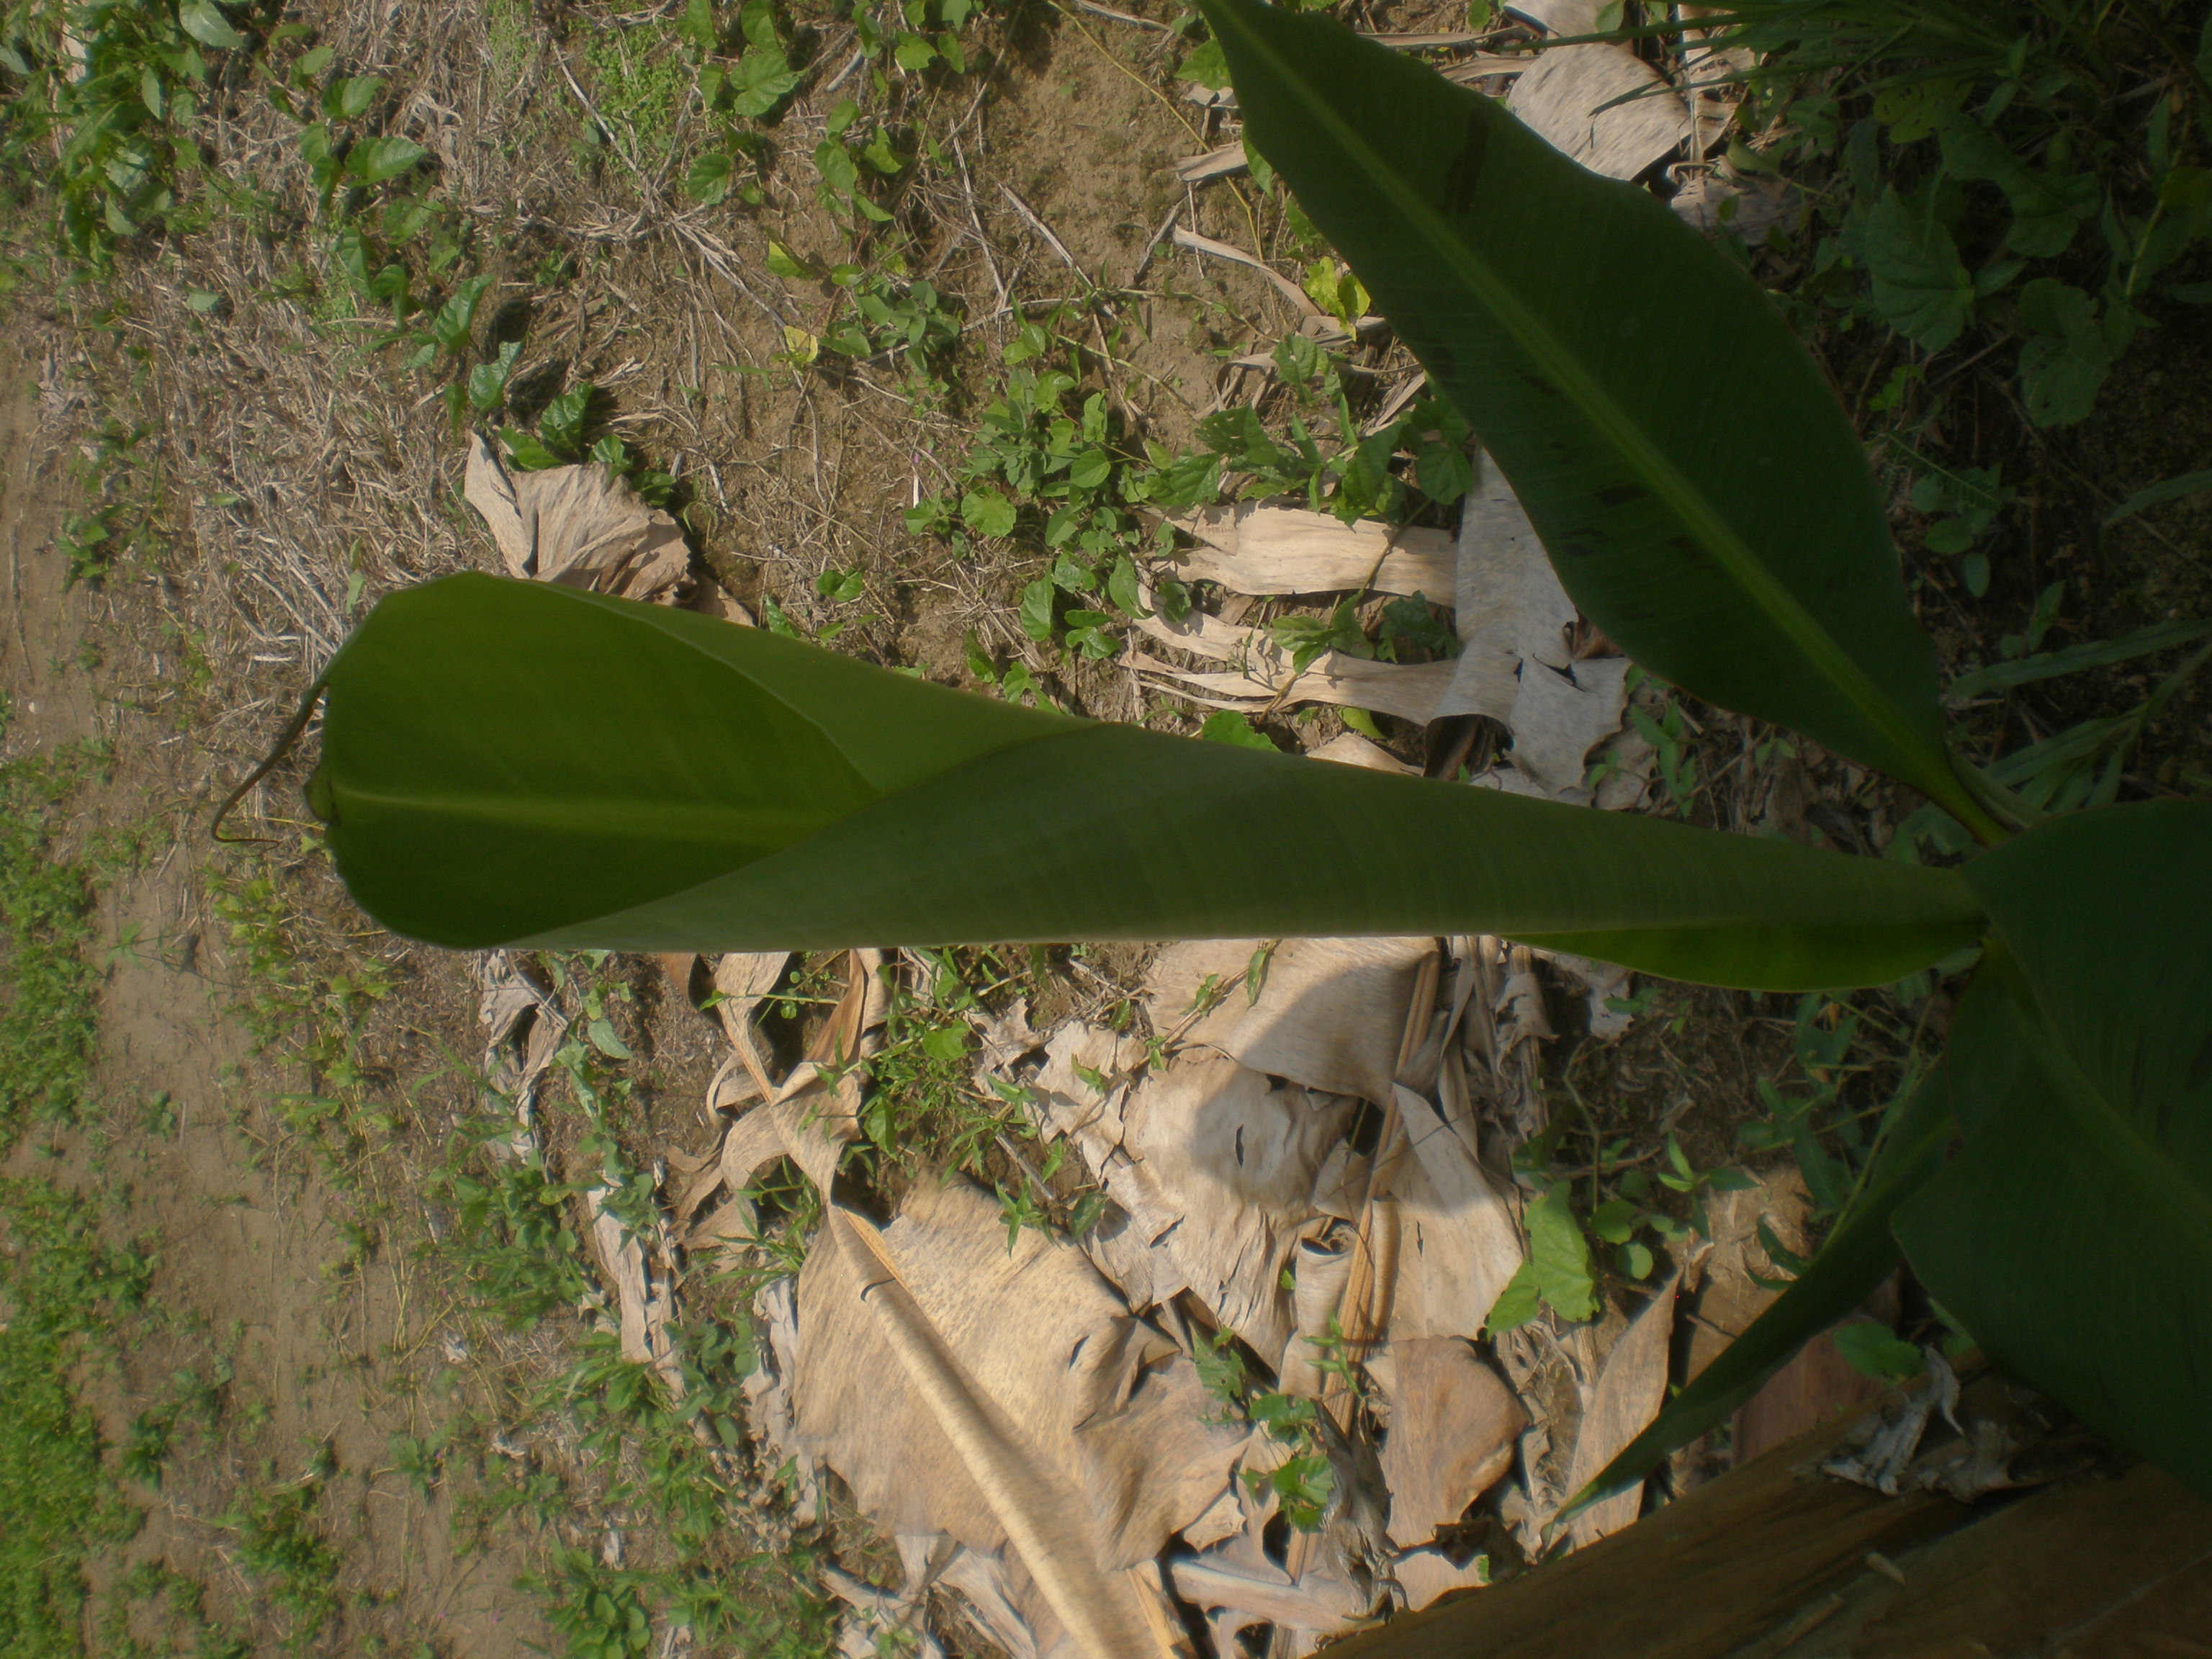candleleafs: (319, 566, 1975, 993)
